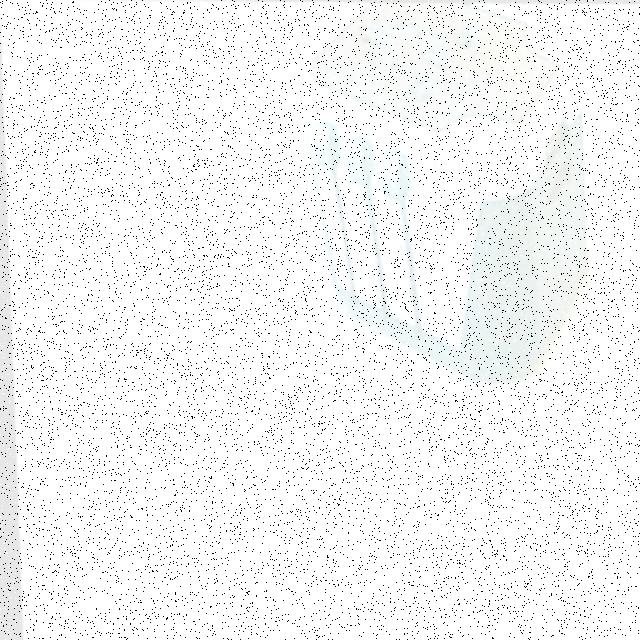adapter: (294, 2, 592, 383)
